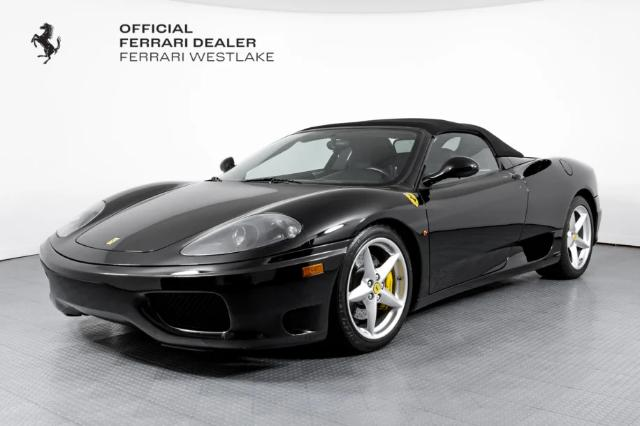ferrari: (38, 118, 602, 356)
